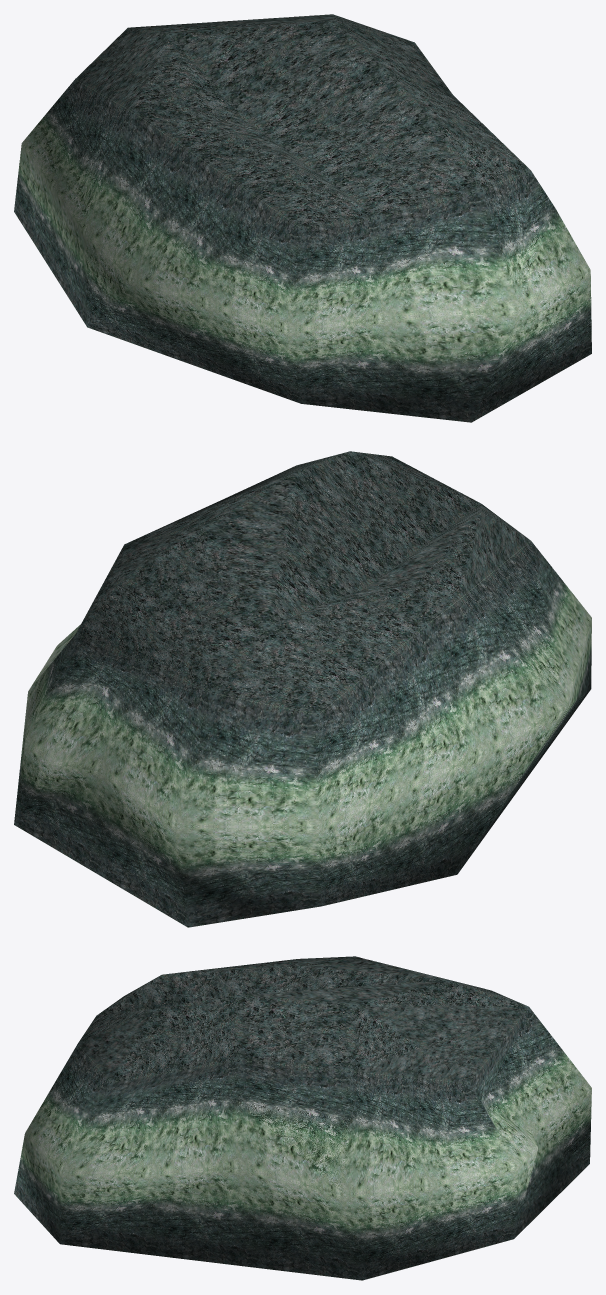
File: rock_beach_dark_lg_l1.fbx
3 views of the same model, one above another, from view 1: azimuth 30°, elevation 25°; view 2: azimuth 150°, elevation 25°; view 3: azimuth 270°, elevation 25° (orthographic). The views are drawn at different scales.
Parts seen in each view (by area): view 1: mesh_node; view 2: mesh_node; view 3: mesh_node.
Part boxes in pixels (bbox=[...]): mesh_node: bbox=[14, 14, 591, 422]; mesh_node: bbox=[14, 451, 591, 927]; mesh_node: bbox=[14, 956, 591, 1280].
Bounding box in the file's own units: 10.73 × 6.64 × 15.11.
